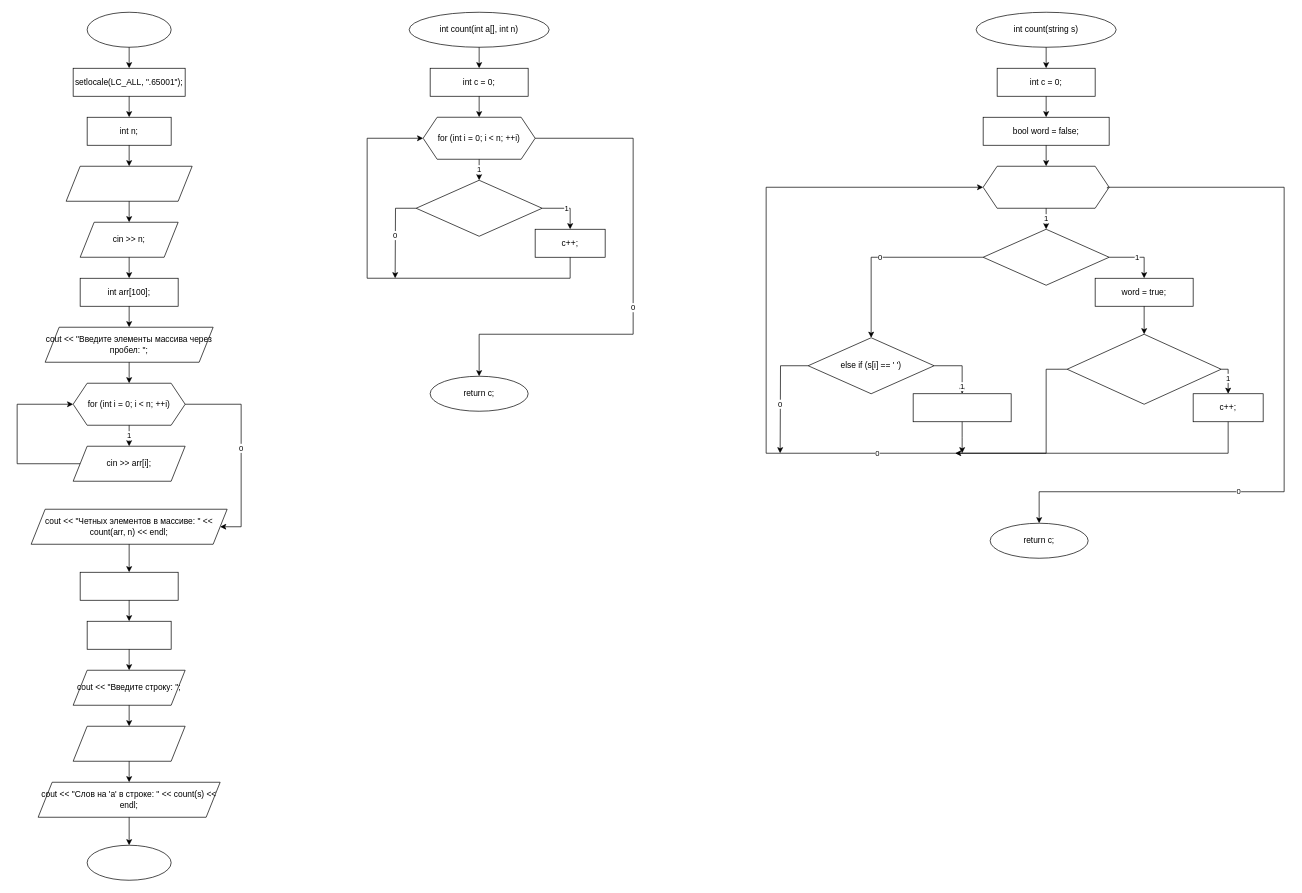
Some shapes in this 1302 by 893 pixel diagram are drawn without their labels. The centre of each missing label's shape, as x and y in pixels:
cin.ignore();: point (128, 586)
cout << "Введите размер массива: ";: point (128, 183)
for (int i = 0; i < s.length(); ++i): point (1045, 187)
getline(cin, s);: point (128, 743)
if (a[i] % 2 == 0): point (478, 208)
if (s[i] != ' ' && !word): point (1045, 257)
if (s[i] == 'a' || s[i] == 'A' || s[i] == 'а' || s[i] == 'А'): point (1143, 369)
return 0;: point (128, 862)
string s;: point (128, 635)
word = false;: point (961, 407)
Начало: point (128, 29)
